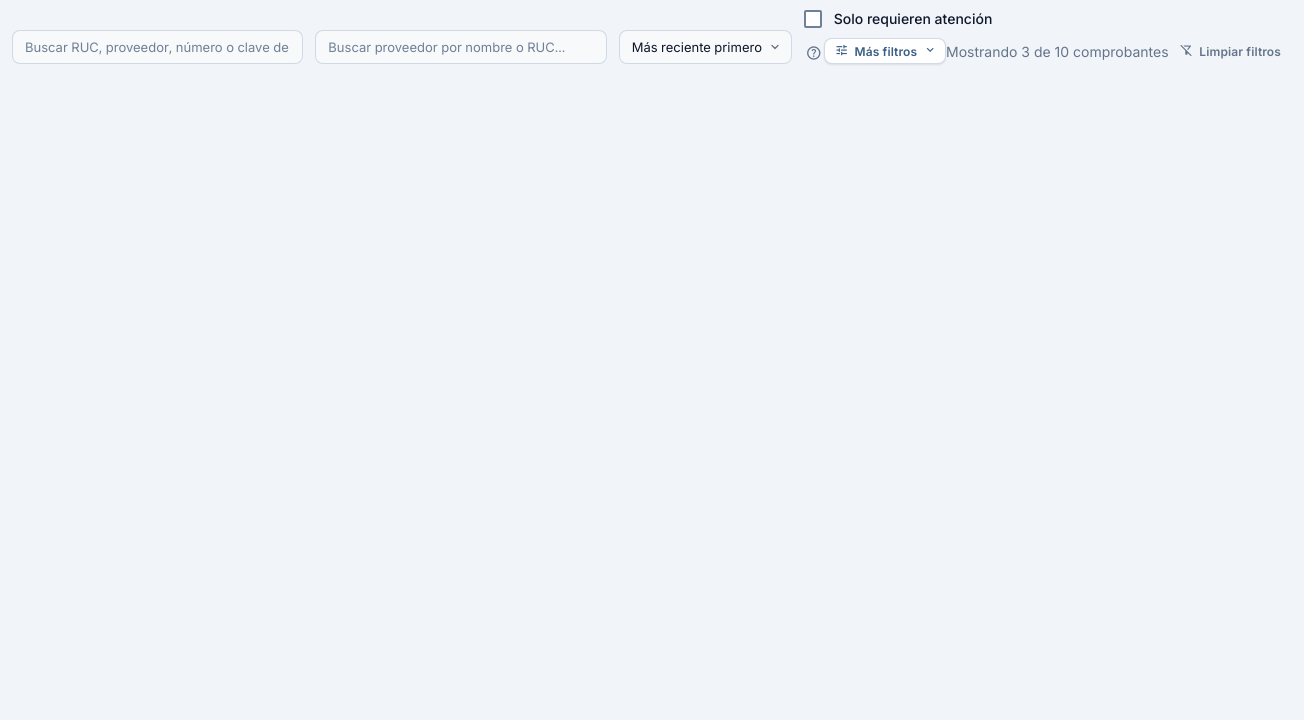
PurchaseReceptionFilters (PURCHASES-RECEPTION-FILTERS-01) › el botón disclosure despliega los criterios avanzados con controles del DS
Click the button "Más filtros": click(885, 51) x1=824 y1=38 x2=946 y2=64
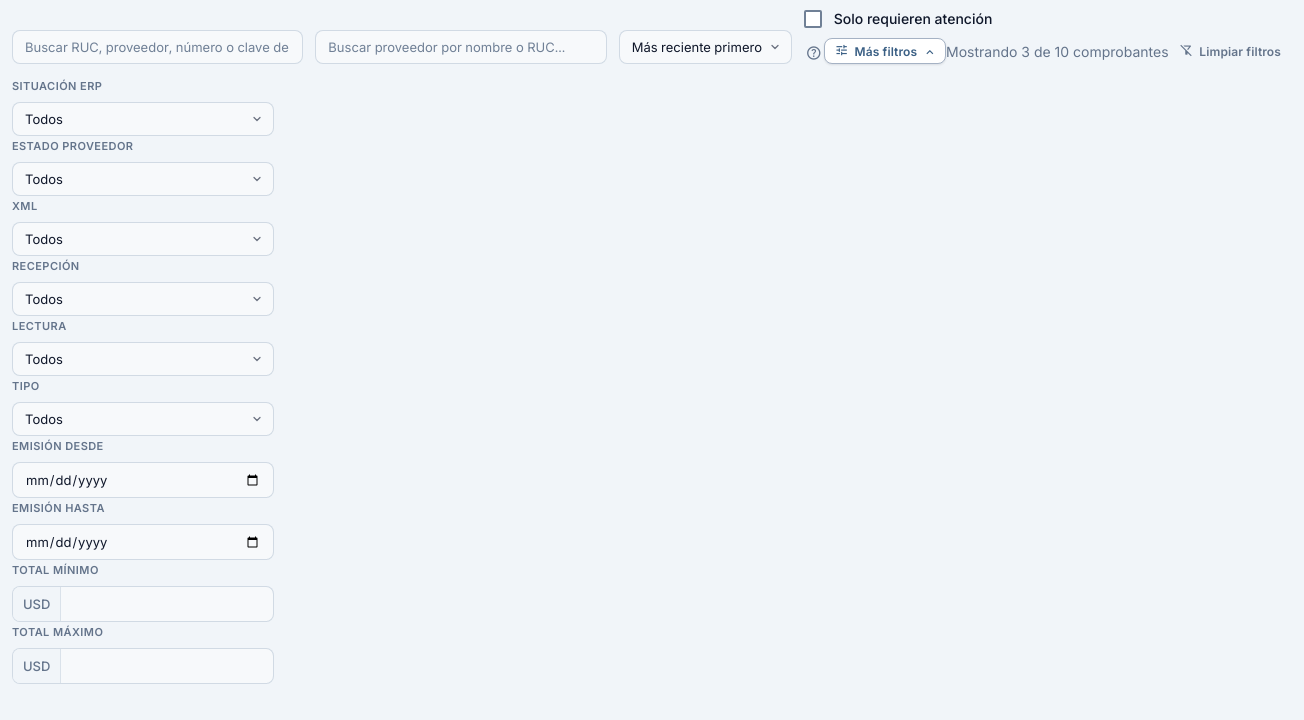
expect the button "Más filtros" is expanded: met, box x1=824 y1=38 x2=946 y2=64
expect the text "Situación ERP" is shown: met, box x1=12 y1=79 x2=102 y2=93
expect the text "Estado proveedor" is shown: met, box x1=12 y1=139 x2=134 y2=153
